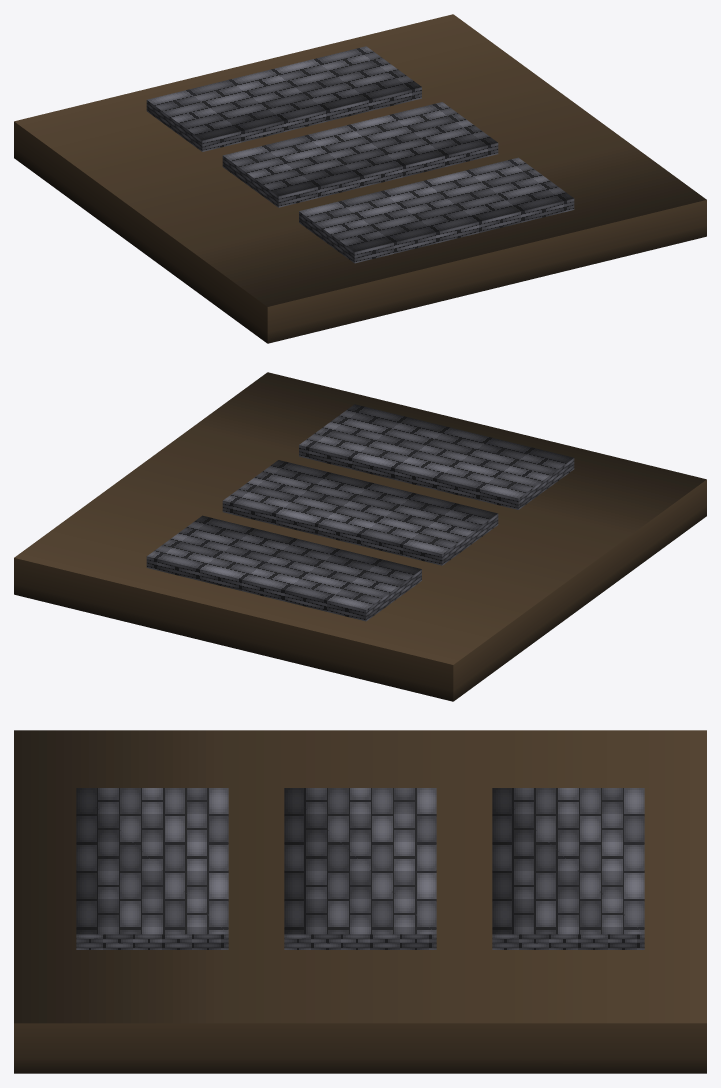
Rendered from path_straight.glb.
3 views of the same model, one above another, from view 1: azimuth 30°, elevation 25°; view 2: azimuth 150°, elevation 25°; view 3: azimuth 270°, elevation 25° (orthographic). The views are drawn at different scales.
Visible parts, largest first — view 1: path_straight; view 2: path_straight; view 3: path_straight.
Boxes of the visible parts, <box> form: path_straight: <box>14,14,706,343</box>; path_straight: <box>14,372,706,701</box>; path_straight: <box>14,730,706,1073</box>.
Size of the model in its own units: 1 by 0.105 by 1.
Materials: 1 (1 with a texture image).
